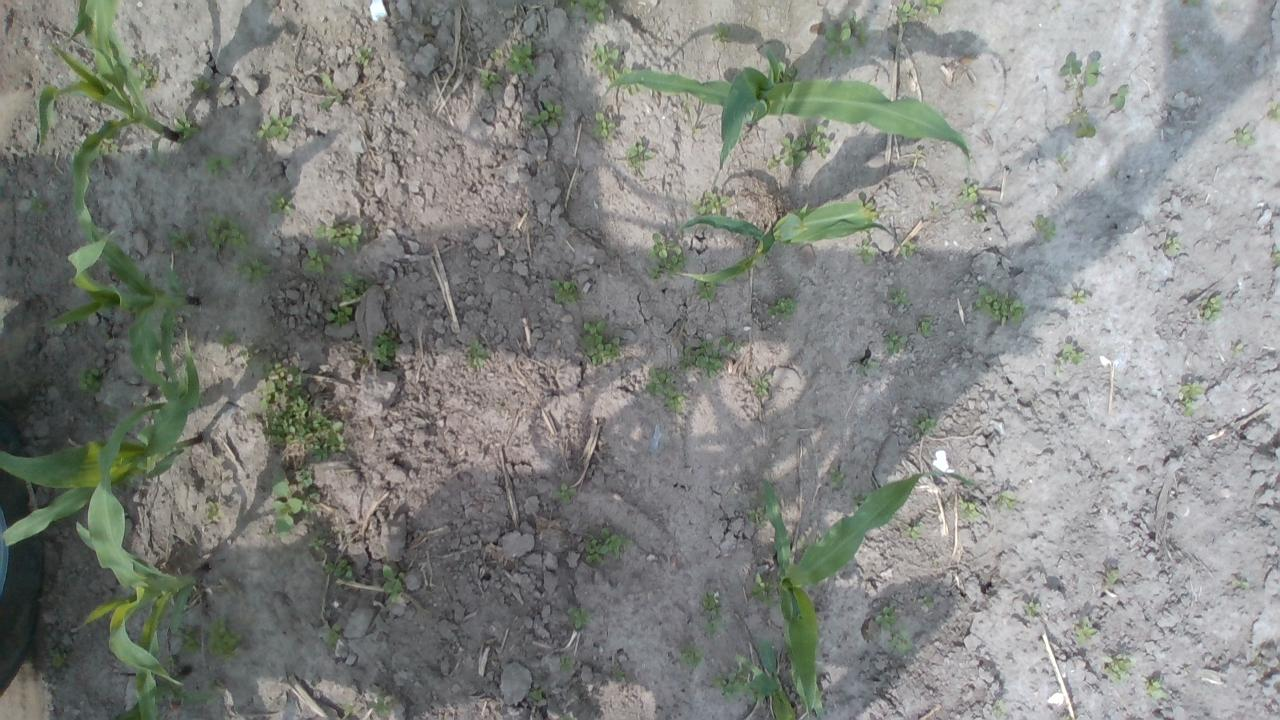Maize: (760, 466, 982, 719), (602, 43, 974, 177), (70, 398, 212, 720), (0, 323, 202, 546), (34, 0, 180, 263), (46, 218, 200, 406), (676, 202, 899, 283), (101, 666, 212, 720), (731, 635, 797, 720)
Weeds: (256, 359, 347, 461), (270, 465, 322, 538), (711, 663, 765, 705), (972, 286, 1028, 326), (824, 11, 870, 57), (644, 233, 688, 279), (205, 615, 248, 662), (646, 362, 684, 414), (204, 212, 251, 253), (582, 318, 622, 366), (584, 527, 633, 565), (680, 338, 723, 378), (314, 219, 363, 252), (522, 98, 566, 130), (232, 255, 276, 286), (335, 268, 372, 303), (588, 42, 620, 82), (371, 327, 401, 369), (503, 42, 538, 76), (127, 56, 160, 90), (748, 571, 778, 607), (254, 114, 292, 142), (622, 138, 654, 171), (1178, 381, 1208, 416), (1102, 652, 1132, 686), (691, 190, 730, 216), (172, 112, 202, 145), (74, 364, 104, 397), (322, 558, 356, 587), (1066, 108, 1096, 139), (780, 135, 807, 169), (319, 72, 343, 110), (382, 564, 406, 602), (202, 152, 235, 179), (1056, 342, 1088, 369), (367, 684, 394, 716), (175, 625, 202, 657), (806, 124, 831, 158), (324, 302, 354, 330), (910, 412, 938, 442), (462, 340, 492, 368), (168, 227, 196, 256), (301, 248, 332, 274), (872, 603, 899, 632), (767, 296, 799, 320), (1030, 214, 1056, 243), (550, 278, 580, 303), (590, 111, 614, 141), (699, 588, 723, 618), (577, 0, 608, 23), (190, 77, 227, 96), (1226, 124, 1256, 147), (888, 628, 914, 654), (266, 192, 294, 216), (855, 238, 880, 264), (566, 605, 592, 630), (1075, 616, 1096, 646), (884, 331, 908, 357), (678, 644, 702, 669), (1202, 292, 1222, 322), (1058, 53, 1082, 77), (695, 278, 719, 302), (552, 482, 578, 504), (719, 331, 746, 352), (956, 498, 981, 520), (894, 0, 919, 22), (1108, 84, 1128, 111), (478, 68, 500, 92), (744, 506, 768, 528), (1144, 676, 1166, 700), (98, 407, 125, 426), (238, 342, 259, 366), (96, 138, 120, 158), (750, 373, 771, 395), (1083, 61, 1101, 86), (888, 286, 909, 307), (778, 60, 798, 82), (996, 490, 1016, 512), (920, 0, 946, 16), (1163, 235, 1181, 258), (856, 358, 880, 375), (712, 23, 732, 43), (307, 532, 329, 550), (918, 314, 934, 338), (826, 468, 846, 487), (48, 649, 68, 668), (216, 329, 237, 347), (206, 500, 223, 522), (620, 81, 646, 95), (354, 47, 373, 66), (902, 522, 922, 540), (326, 624, 344, 644), (958, 184, 977, 202), (29, 196, 47, 214), (1069, 288, 1088, 305), (854, 196, 874, 212), (972, 204, 988, 224), (558, 653, 574, 673), (530, 682, 546, 702), (700, 620, 724, 632), (164, 654, 180, 672), (853, 491, 872, 506), (1267, 100, 1280, 121), (1171, 40, 1188, 56), (900, 240, 914, 258), (1106, 567, 1120, 585), (612, 667, 626, 682), (766, 155, 780, 169), (341, 702, 355, 716), (1028, 601, 1040, 617), (1055, 152, 1068, 166), (558, 0, 576, 10), (1232, 579, 1250, 589), (922, 595, 934, 609), (1232, 342, 1244, 356), (1272, 245, 1280, 263), (100, 327, 110, 340), (491, 48, 502, 59), (1184, 0, 1202, 6), (563, 714, 580, 720), (622, 66, 633, 75), (756, 495, 765, 503), (914, 148, 923, 156), (928, 204, 938, 211)
